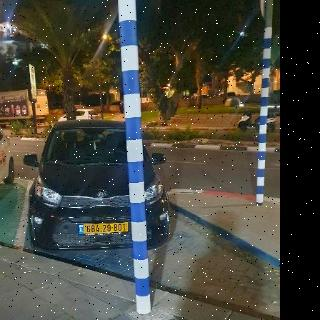LicensePlate: (83, 222, 129, 234)
